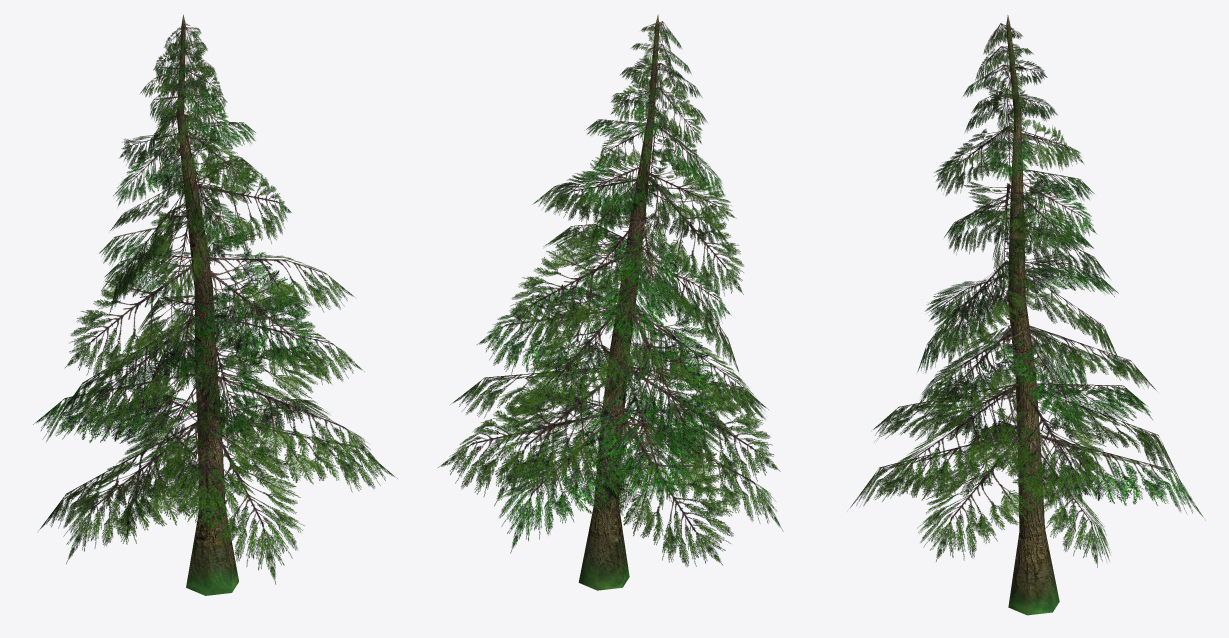
File: tree2_1.glb
3 renders of one model, left to right at view 1: azimuth 30°, elevation 25°; view 2: azimuth 150°, elevation 25°; view 3: azimuth 270°, elevation 25°, orthographic. The views are drawn at different scales.
Parts seen in each view (by area): view 1: tree2_1; view 2: tree2_1; view 3: tree2_1.
Boxes of the visible parts, bbox=[...] form: tree2_1: bbox=[33, 14, 397, 595]; tree2_1: bbox=[438, 14, 783, 590]; tree2_1: bbox=[850, 15, 1205, 615].
Bounding box in the file's own units: 9.15 × 14.1 × 8.51.
2 materials, 2 textured.
